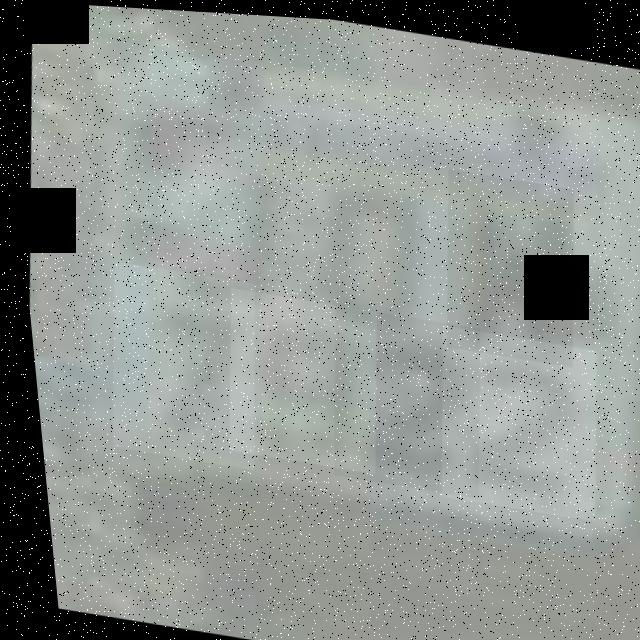2: (418, 319, 603, 515), (311, 300, 486, 493)
7: (89, 259, 264, 468)
9: (208, 285, 382, 470)
J: (138, 123, 315, 321)
N: (426, 163, 584, 362)
